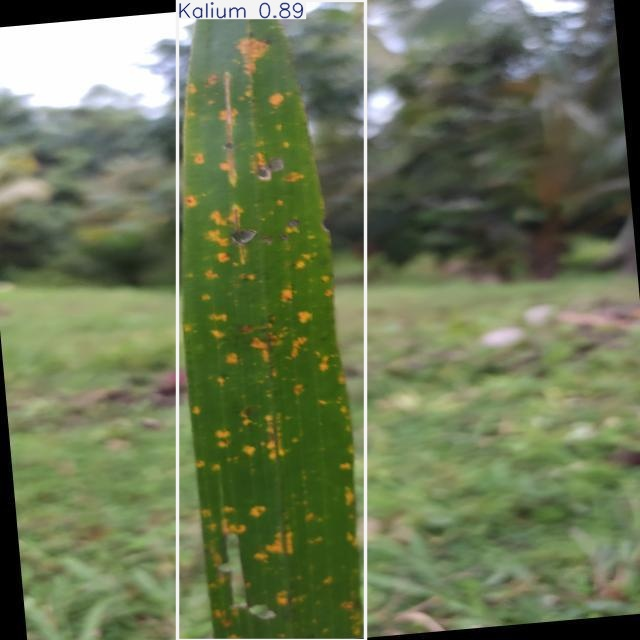Kalium: (178, 0, 365, 640)
